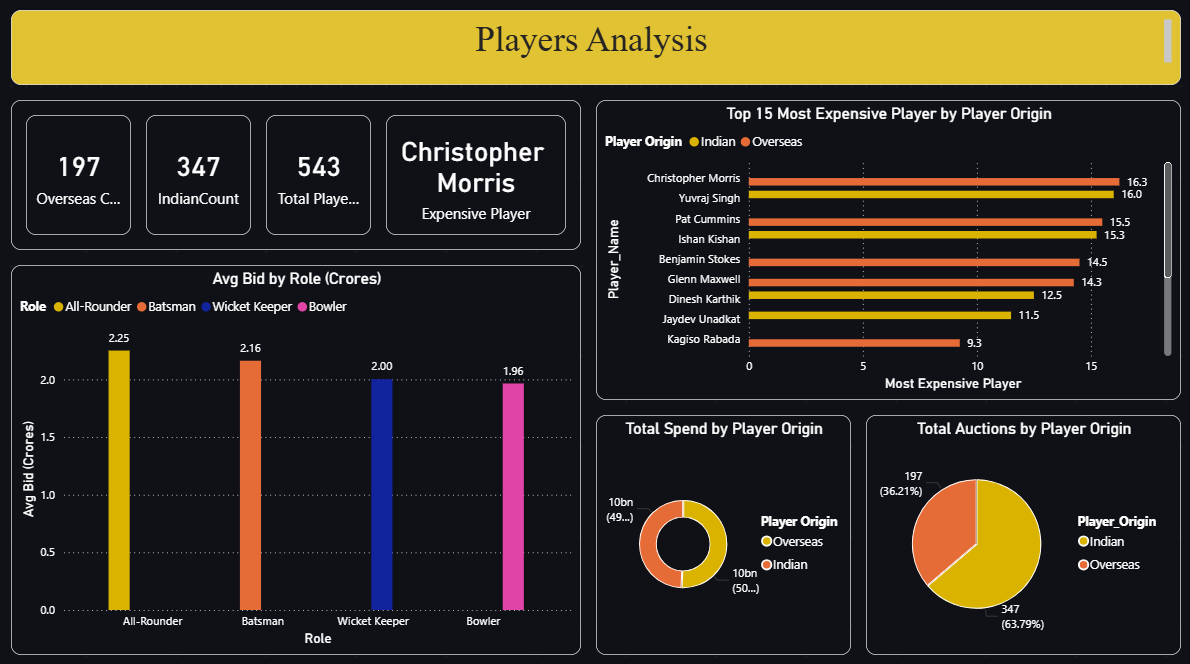

The dashboard page shown, as its layout file describes it:
{"tool":"powerbi","page":{"name":"Players Analysis","canvas":[1280,720],"ordinal":3},"visuals":[{"type":"textbox","box":[16,16,1248,80],"z":0},{"type":"textbox","box":[16,112,608,160],"z":1000},{"type":"card","fields":{"Values":["Player Filter.Overseas Count"]},"box":[32,128,112,128],"z":2000},{"type":"card","fields":{"Values":["Player Filter.IndianCount"]},"box":[160,128,112,128],"z":3000},{"type":"card","fields":{"Values":["Table.Total Playerss"]},"box":[288,128,112,128],"z":4000},{"type":"donutChart","fields":{"Category":["ipl ipl_ac.Player_Origin"],"Y":["Table.Total Spend"]},"box":[640,448,272,256],"z":5000},{"type":"pieChart","title":"Total Auctions by Player Origin","fields":{"Category":["ipl ipl_ac.Player_Origin"],"Y":["Player Filter.u_player_name"]},"box":[928,448,336,256],"z":6000},{"type":"clusteredBarChart","title":"Top 15 Most Expensive Player by Player Origin","fields":{"Category":["ipl ipl_ac.Player_Name"],"Series":["ipl ipl_ac.Player_Origin"],"Y":["Table.Most Expensive Player"]},"box":[640,112,624,320],"z":7000},{"type":"clusteredColumnChart","title":"Avg Bid  by Role (Crores)","fields":{"Category":["ipl ipl_ac.Role"],"Y":["ipl ipl_ac.Avg_Bid_Cr"],"Series":["ipl ipl_ac.Role"]},"box":[16,288,608,416],"z":8000},{"type":"card","fields":{"Values":["Player Filter.Highest_Player"]},"box":[416,128,192,128],"z":10000}]}

Visuals, with their boxes in screenshot pixels (x1, y1, x2, y2), scaled from the page's 1280x720 canvas onto the 1190x664 screenshot:
textbox: bbox=(15, 15, 1175, 89)
textbox: bbox=(15, 103, 580, 251)
card - Player Filter.Overseas Count: bbox=(30, 118, 134, 236)
card - Player Filter.IndianCount: bbox=(149, 118, 253, 236)
card - Table.Total Playerss: bbox=(268, 118, 372, 236)
donutChart - ipl ipl_ac.Player_Origin x Table.Total Spend: bbox=(595, 413, 848, 649)
"Total Auctions by Player Origin" pieChart: bbox=(863, 413, 1175, 649)
"Top 15 Most Expensive Player by Player Origin" clusteredBarChart: bbox=(595, 103, 1175, 398)
"Avg Bid  by Role (Crores)" clusteredColumnChart: bbox=(15, 266, 580, 649)
card - Player Filter.Highest_Player: bbox=(387, 118, 565, 236)
